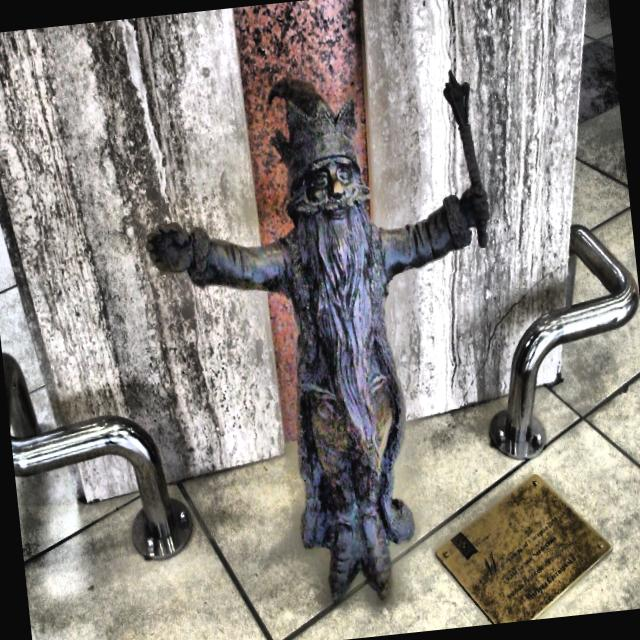Serdecznis: (147, 69, 490, 607)
